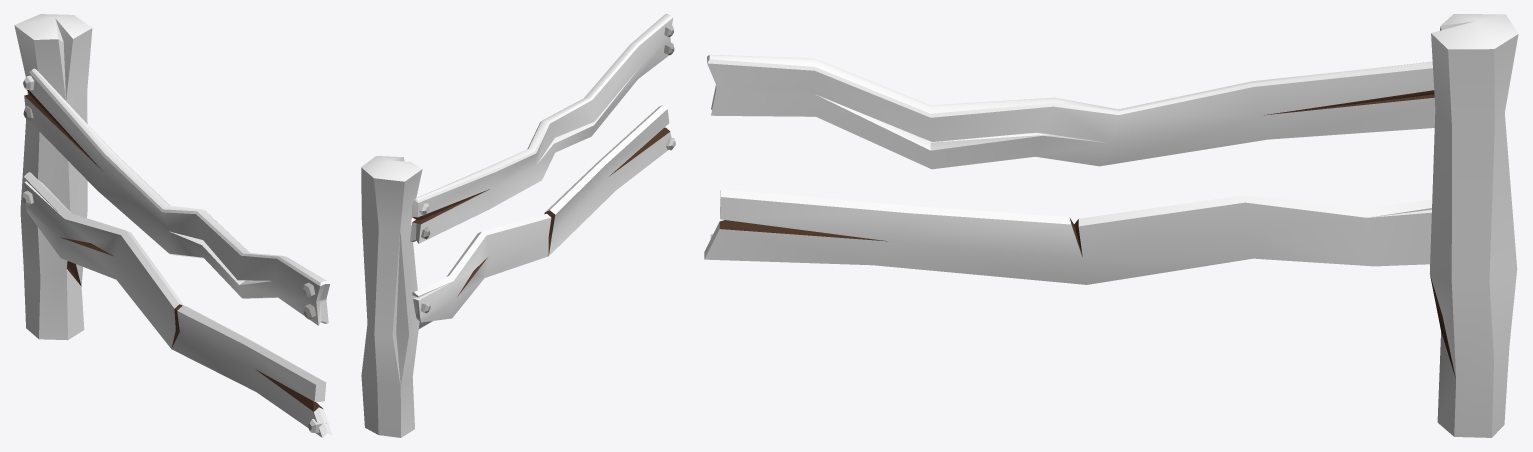
Rendered from valla2.fbx.
3 renders of one model, left to right at view 1: azimuth 30°, elevation 25°; view 2: azimuth 150°, elevation 25°; view 3: azimuth 270°, elevation 25°, orthographic. The views are drawn at different scales.
Parts seen in each view (by area): view 1: vallaLargaIzquierda1; view 2: vallaLargaIzquierda1; view 3: vallaLargaIzquierda1.
Part boxes in pixels (x1=…): vallaLargaIzquierda1: x1=14, y1=14, x2=332, y2=437; vallaLargaIzquierda1: x1=361, y1=14, x2=675, y2=437; vallaLargaIzquierda1: x1=704, y1=14, x2=1518, y2=437.
Size of the model in its own units: 137 by 611 by 1121.
